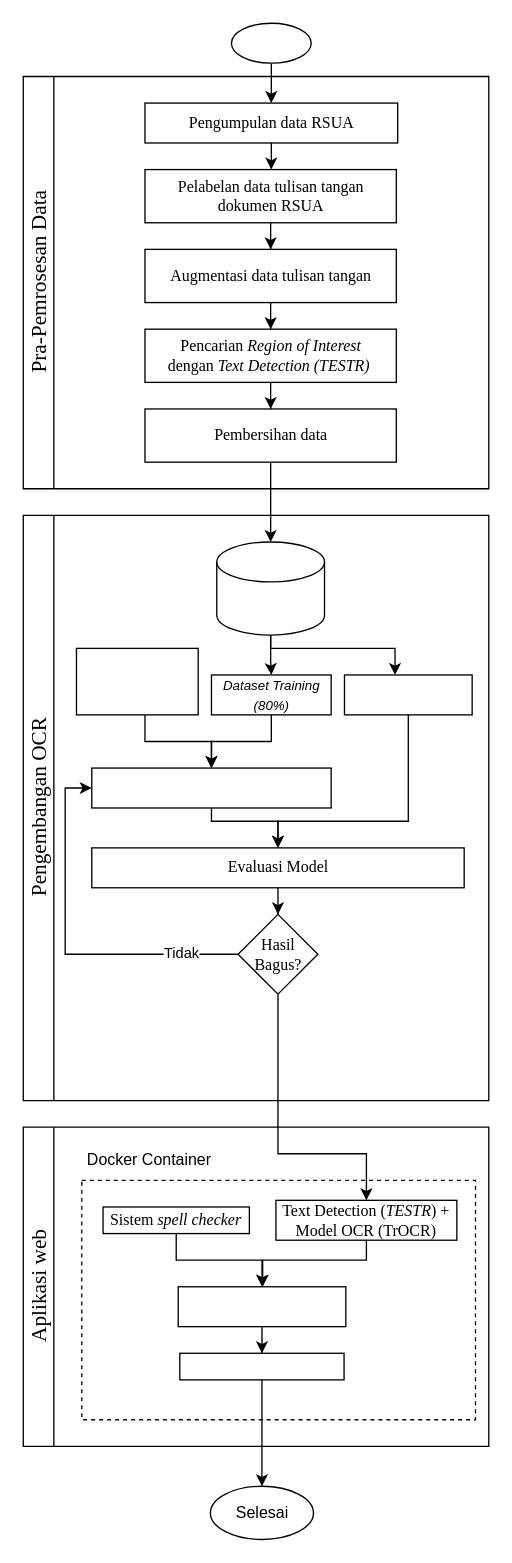
The diagram is 512 pixels wide and 1563 high, and some of its shapes have lost their labels. Each missing label, with the centre of its shape:
"Dataset Test (20%)" belongs at point 407,694.
"Dataset Tulisan Tangan RSUA" belongs at point 270,588.
"IAM (TrOCR) + RSUA Fine-Tuning" belongs at point 210,787.
"Mulai" belongs at point 270,42.
"Pretrained IAM Dataset Model ( TrOCR )" belongs at point 136,681.
"Web Server ( NGINX)" belongs at point 261,1366.
"WSGI ( Flask )" belongs at point 261,1306.
